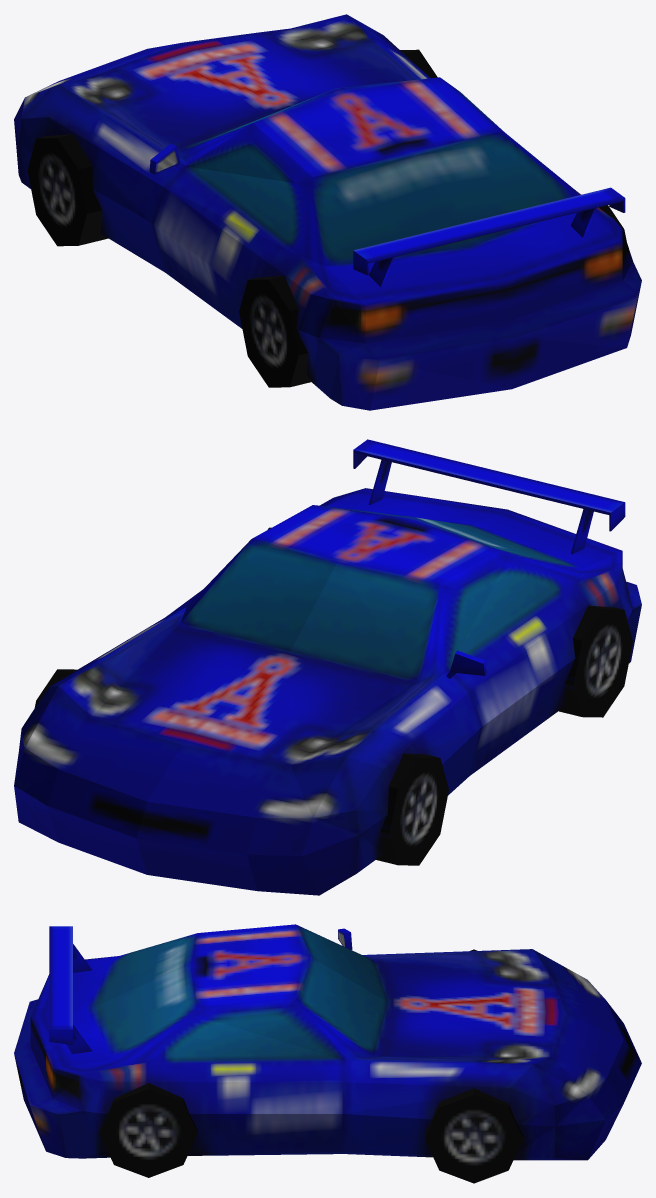
The model's file is bl.ico.obj.
3 renders of one model, top to bottom at view 1: azimuth 30°, elevation 25°; view 2: azimuth 150°, elevation 25°; view 3: azimuth 270°, elevation 25°, orthographic. The views are drawn at different scales.
Size of the model in its own units: 2.34 by 1.15 by 4.28.
1 material, 1 textured.
